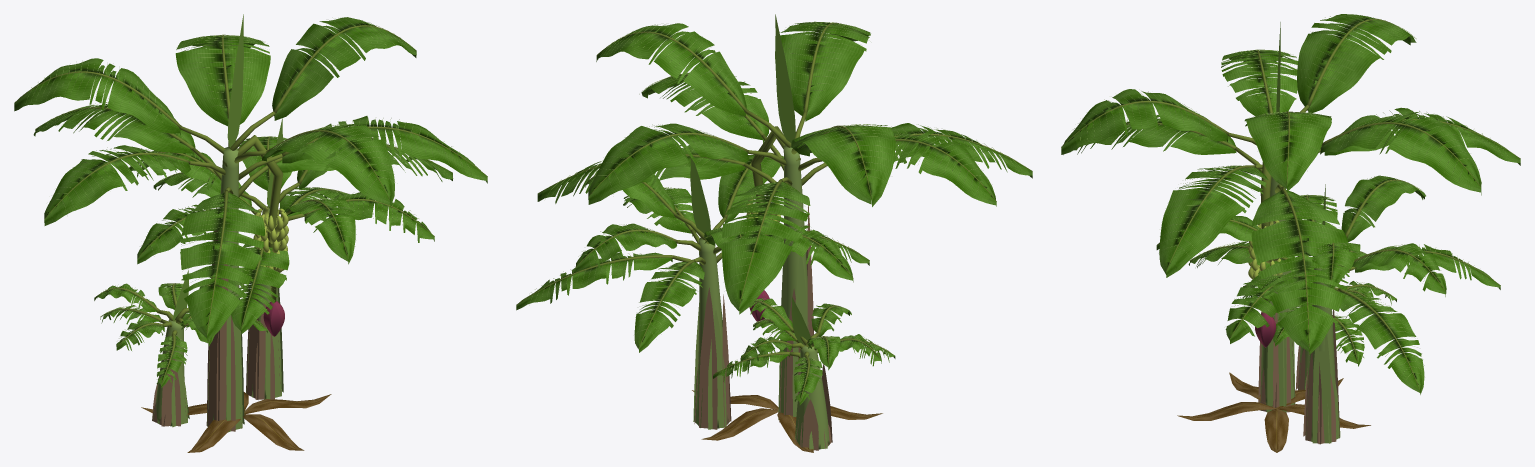
File: KL_LS_Banana_Clump.gltf
3 renders of one model, left to right at view 1: azimuth 30°, elevation 25°; view 2: azimuth 150°, elevation 25°; view 3: azimuth 270°, elevation 25°, orthographic.
Parts seen in each view (by area): view 1: TF3_KL_LS_Banana_Clump; view 2: TF3_KL_LS_Banana_Clump; view 3: TF3_KL_LS_Banana_Clump.
Boxes of the visible parts, box(x1,y1,x2,y2) form: TF3_KL_LS_Banana_Clump: box(14, 14, 487, 452); TF3_KL_LS_Banana_Clump: box(516, 14, 1032, 452); TF3_KL_LS_Banana_Clump: box(1061, 14, 1520, 452).
Size of the model in its own units: 5.25 by 4.66 by 4.9.
Materials: 11 (2 with a texture image).
